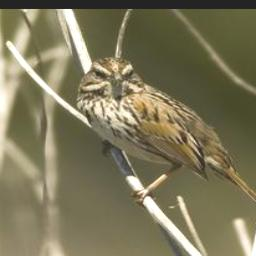Sparrow: (75, 57, 256, 234)
